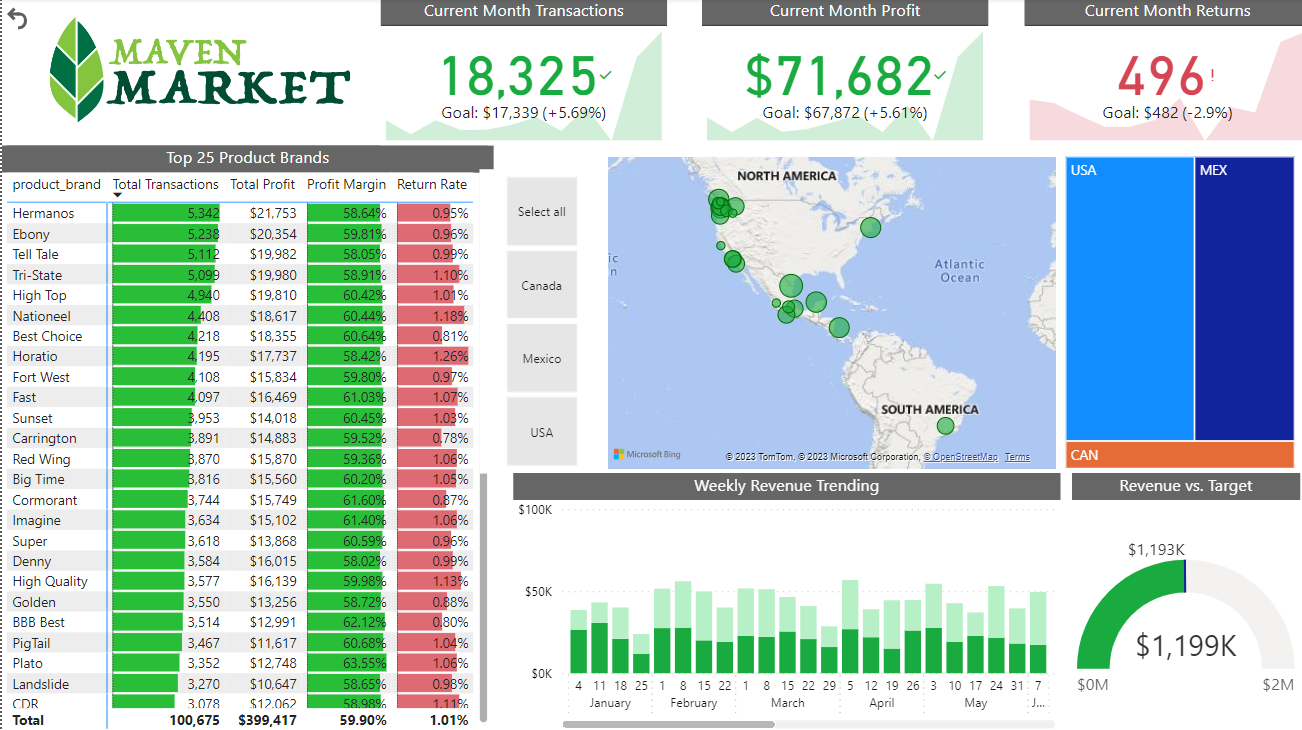

The page's visual inventory and layout, read from the dashboard file:
{"tool":"powerbi","page":{"name":"Topline Performance","canvas":[1280,720],"ordinal":0},"visuals":[{"type":"image","box":[30,6.2,323.8,127.5],"z":0},{"type":"pivotTable","title":"Top 25 Product Brands","fields":{"Rows":["Products.product_brand"],"Values":["Transaction_data.Total Transactions","Transaction_data.Total Profit","Transaction_data.Profit Margin","Return_data.Return Rate"]},"box":[0,144.2,480.4,575.8],"z":1000},{"type":"kpi","title":"Current Month Transactions","fields":{"Indicator":["Transaction_data.Total Transactions"],"TrendLine":["Calendar.Start of Month"],"Goal":["Transaction_data.Last Month Transactions"]},"box":[370,0,280,143.8],"z":2000},{"type":"kpi","title":"Current Month Profit","fields":{"TrendLine":["Calendar.Start of Month"],"Indicator":["Transaction_data.Total Profit"],"Goal":["Transaction_data.Last Month Profit"]},"box":[685,0,280,143.8],"z":3000},{"type":"kpi","title":"Current Month Returns","fields":{"TrendLine":["Calendar.Start of Month"],"Indicator":["Return_data.Total Returns"],"Goal":["Transaction_data.Last Month Returns"]},"box":[1000,0,280,143.8],"z":4000},{"type":"map","fields":{"Category":["Stores.store_city"],"Size":["Transaction_data.Total Transactions"]},"box":[587.5,150,447.5,315],"z":5000},{"type":"slicer","fields":{"Values":["Stores.store_country"]},"box":[467.5,167.5,120,297.5],"z":6000},{"type":"treemap","fields":{"Group":["Customers.Short_Country","Stores.store_state","Stores.store_city"],"Values":["Transaction_data.Total Transactions"]},"box":[1035,150,233.8,315],"z":7000},{"type":"columnChart","title":"Weekly Revenue Trending","fields":{"Y":["Transaction_data.Total Revenue","Transaction_data.Revenue Target"],"Category":["Calendar.Start of Week.Variation.Date Hierarchy.Month","Calendar.Start of Week.Variation.Date Hierarchy.Day"]},"box":[500,465,535,255],"z":8000},{"type":"gauge","title":"Revenue vs. Target","fields":{"Y":["Transaction_data.Total Revenue"],"TargetValue":["Transaction_data.Revenue Target"]},"box":[1046,465,223,255],"z":9000},{"type":"actionButton","box":[0,0,30,40],"z":10000}]}

Visuals, with their boxes in screenshot pixels (x1, y1, x2, y2), scaled from the page's 1280x720 canvas onto the 1302x730 screenshot:
image: pyautogui.locateOnScreen(31, 6, 360, 136)
"Top 25 Product Brands" pivotTable: pyautogui.locateOnScreen(0, 146, 489, 729)
"Current Month Transactions" kpi: pyautogui.locateOnScreen(376, 0, 661, 146)
"Current Month Profit" kpi: pyautogui.locateOnScreen(697, 0, 982, 146)
"Current Month Returns" kpi: pyautogui.locateOnScreen(1017, 0, 1301, 146)
map - Stores.store_city x Transaction_data.Total Transactions: pyautogui.locateOnScreen(598, 152, 1053, 471)
slicer - Stores.store_country: pyautogui.locateOnScreen(476, 170, 598, 471)
treemap - Customers.Short_Country x Stores.store_state: pyautogui.locateOnScreen(1053, 152, 1291, 471)
"Weekly Revenue Trending" columnChart: pyautogui.locateOnScreen(509, 471, 1053, 729)
"Revenue vs. Target" gauge: pyautogui.locateOnScreen(1064, 471, 1291, 729)
actionButton: pyautogui.locateOnScreen(0, 0, 31, 41)
